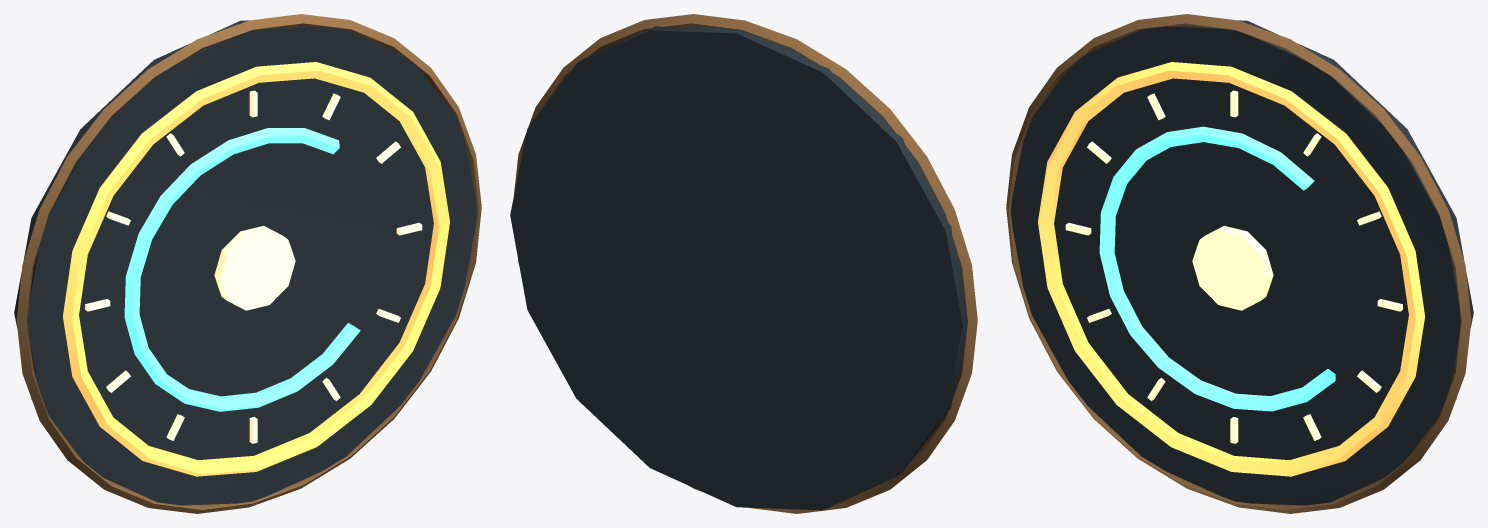
Rendered from neon-ring.lod1.glb.
3 renders of one model, left to right at view 1: azimuth 30°, elevation 25°; view 2: azimuth 150°, elevation 25°; view 3: azimuth 330°, elevation 25°, orthographic.
Visible parts, largest first — view 1: structure; view 2: structure; view 3: structure.
Boxes of the visible parts, bbox=[...] form: structure: bbox=[14, 14, 481, 513]; structure: bbox=[510, 14, 977, 513]; structure: bbox=[1006, 14, 1473, 513].
Size of the model in its own units: 1.85 by 1.85 by 0.1386.
